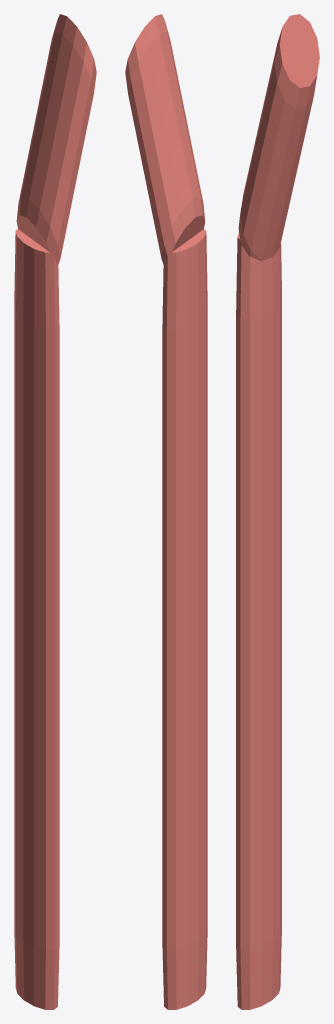
Rendered from straw.glb.
3 views of the same model, side by side, from view 1: azimuth 30°, elevation 25°; view 2: azimuth 150°, elevation 25°; view 3: azimuth 330°, elevation 25° (orthographic).
Parts seen in each view (by area): view 1: model; view 2: model; view 3: model.
Part boxes in pixels (left/top/right/bottom): model: left=14, top=14, right=96, bottom=1009; model: left=125, top=14, right=207, bottom=1009; model: left=236, top=14, right=319, bottom=1009.
Bounding box in the file's own units: 0.03 × 0.44 × 0.03.
